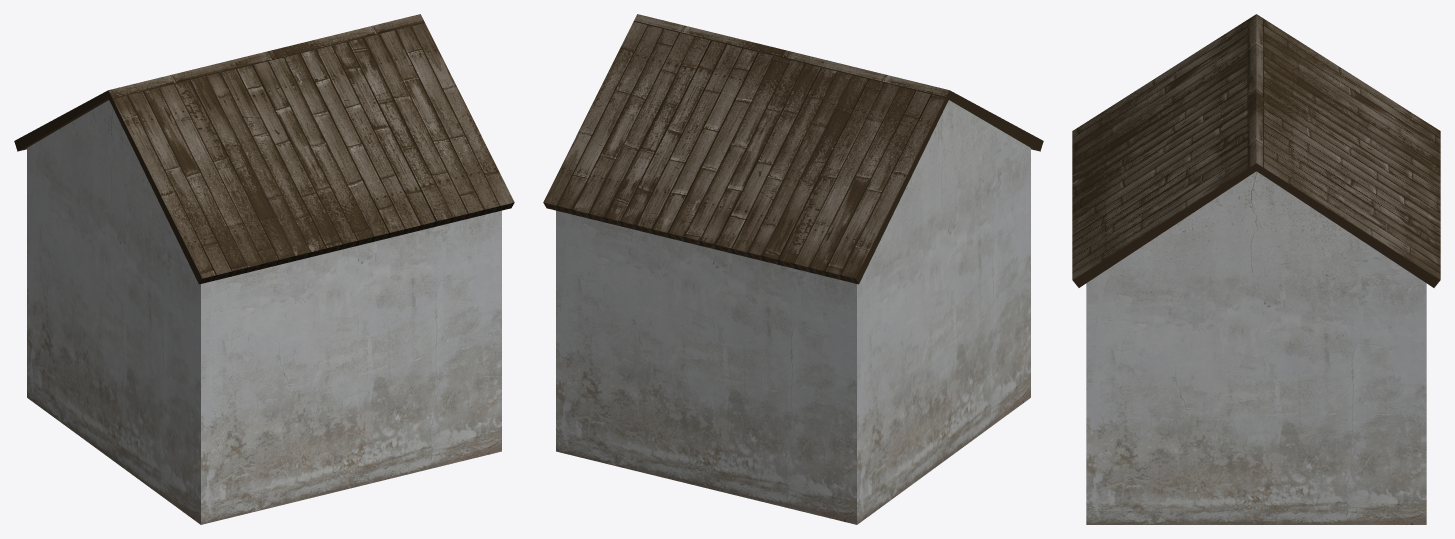
Rendered from RGBS House Final.obj.
3 views of the same model, side by side, from view 1: azimuth 30°, elevation 25°; view 2: azimuth 150°, elevation 25°; view 3: azimuth 270°, elevation 25° (orthographic). The views are drawn at different scales.
Visible parts, largest first — view 1: RGBS_House_Variation1_E1:RGBS_LowPoly_House_Variation_1; view 2: RGBS_House_Variation1_E1:RGBS_LowPoly_House_Variation_1; view 3: RGBS_House_Variation1_E1:RGBS_LowPoly_House_Variation_1.
Boxes of the visible parts, x1,y1,x2,y2 form: RGBS_House_Variation1_E1:RGBS_LowPoly_House_Variation_1: (14,14,514,524); RGBS_House_Variation1_E1:RGBS_LowPoly_House_Variation_1: (543,14,1043,524); RGBS_House_Variation1_E1:RGBS_LowPoly_House_Variation_1: (1072,14,1440,524).
Bounding box in the file's own units: 10.38 × 11.83 × 10.83.
